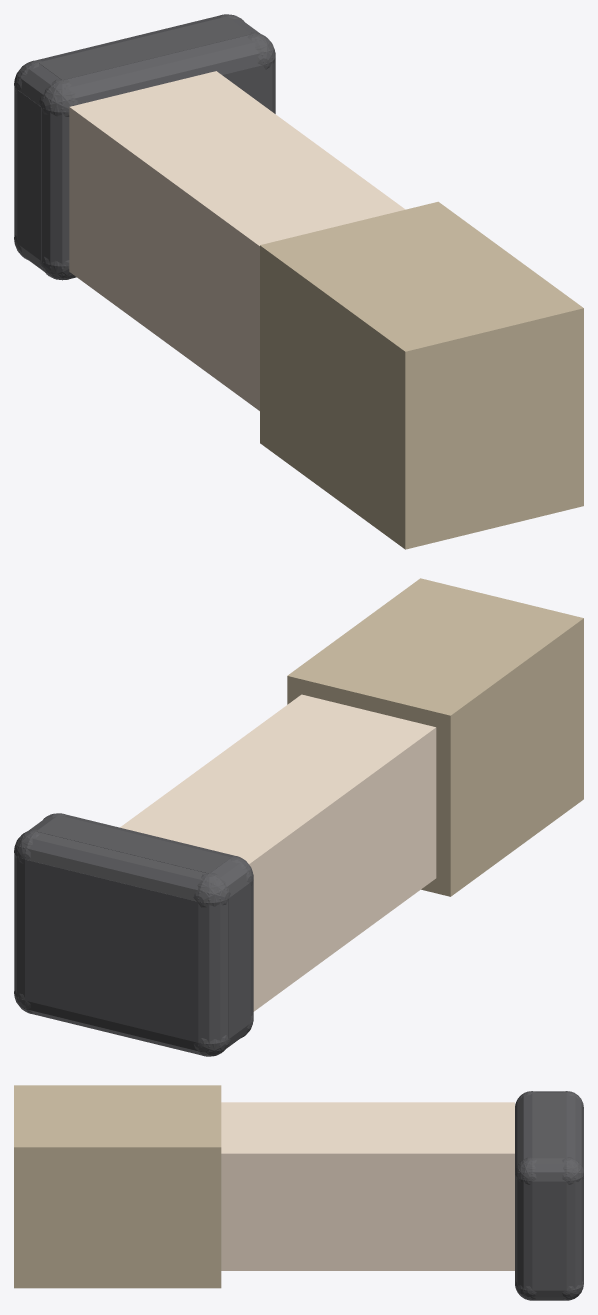
File: leg_right.glb
The picture shows the model from 3 angles, top to bottom: view 1: azimuth 30°, elevation 25°; view 2: azimuth 150°, elevation 25°; view 3: azimuth 270°, elevation 25°; orthographic projection. The views are drawn at different scales.
Visible parts, largest first — view 1: shorts_right_visual, shin_right_visual, shoe_right_edge3_visual, shoe_right_edge5_visual, shoe_right_y_visual, shoe_right_x_visual, shoe_right_edge9_visual, shoe_right_z_visual, shoe_right_edge7_visual, shoe_right_edge2_visual, shoe_right_edge4_visual; view 2: shin_right_visual, shorts_right_visual, shoe_right_z_visual, shoe_right_edge2_visual, shoe_right_edge4_visual, shoe_right_y_visual, shoe_right_x_visual, shoe_right_edge0_visual, shoe_right_edge6_visual, shoe_right_edge9_visual, shoe_right_edge5_visual, shoe_right_edge3_visual; view 3: shin_right_visual, shorts_right_visual, shoe_right_x_visual, shoe_right_y_visual, shoe_right_edge6_visual, shoe_right_edge7_visual, shoe_right_edge2_visual, shoe_right_edge3_visual, shoe_right_edge11_visual, shoe_right_edge10_visual.
Part boxes in pixels (<box>): shorts_right_visual: <box>260,201,583,549</box>; shin_right_visual: <box>69,71,405,410</box>; shoe_right_edge3_visual: <box>39,33,275,116</box>; shoe_right_edge5_visual: <box>41,79,75,280</box>; shoe_right_y_visual: <box>38,16,251,80</box>; shoe_right_x_visual: <box>17,90,41,260</box>; shoe_right_edge9_visual: <box>14,60,78,116</box>; shoe_right_z_visual: <box>222,65,263,105</box>; shoe_right_edge7_visual: <box>247,32,275,113</box>; shoe_right_edge2_visual: <box>14,14,242,93</box>; shoe_right_edge4_visual: <box>14,60,41,259</box>; shin_right_visual: <box>120,694,436,1011</box>; shorts_right_visual: <box>287,578,583,896</box>; shoe_right_z_visual: <box>25,859,198,1042</box>; shoe_right_edge2_visual: <box>14,831,230,906</box>; shoe_right_edge4_visual: <box>197,873,228,1056</box>; shoe_right_y_visual: <box>36,815,230,873</box>; shoe_right_x_visual: <box>228,882,250,1038</box>; shoe_right_edge0_visual: <box>14,990,230,1056</box>; shoe_right_edge6_visual: <box>14,829,39,1013</box>; shoe_right_edge9_visual: <box>193,856,253,907</box>; shoe_right_edge5_visual: <box>228,855,253,1038</box>; shoe_right_edge3_visual: <box>44,813,253,885</box>; shin_right_visual: <box>221,1102,514,1270</box>; shorts_right_visual: <box>14,1085,221,1288</box>; shoe_right_x_visual: <box>532,1181,566,1290</box>; shoe_right_y_visual: <box>532,1092,566,1158</box>; shoe_right_edge6_visual: <box>562,1157,583,1300</box>; shoe_right_edge7_visual: <box>515,1157,536,1300</box>; shoe_right_edge2_visual: <box>562,1091,583,1184</box>; shoe_right_edge3_visual: <box>515,1091,536,1184</box>; shoe_right_edge11_visual: <box>515,1158,583,1181</box>; shoe_right_edge10_visual: <box>515,1280,583,1300</box>.
Size of the model in its own units: 0.154 by 0.126 by 0.462.
